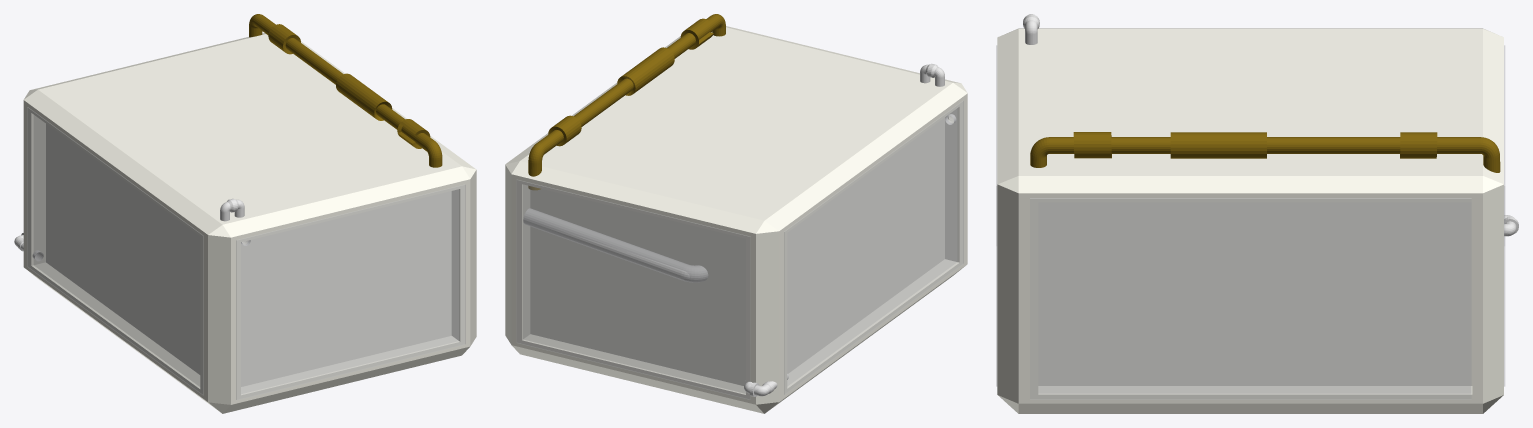
File: Steampunk_Puzzle_Box.fbx
3 views of the same model, side by side, from view 1: azimuth 30°, elevation 25°; view 2: azimuth 150°, elevation 25°; view 3: azimuth 270°, elevation 25° (orthographic). The views are drawn at different scales.
Parts seen in each view (by area): view 1: Base_Body_Box, Glass_Panel_3, Glass_Panel_2, Network_1, Network_3; view 2: Base_Body_Box, Glass_Panel_1, Glass_Panel_2, Network_1, Level1_Platform_1, Network_3; view 3: Base_Body_Box, Glass_Panel_4, Network_1, Glass_Panel_3, Glass_Panel_1.
Part boxes in pixels (x1=…): Base_Body_Box: x1=23, y1=33, x2=476, y2=413; Glass_Panel_3: x1=236, y1=185, x2=465, y2=399; Glass_Panel_2: x1=27, y1=107, x2=203, y2=394; Network_1: x1=249, y1=14, x2=442, y2=167; Network_3: x1=220, y1=198, x2=250, y2=245; Base_Body_Box: x1=505, y1=26, x2=967, y2=413; Glass_Panel_1: x1=516, y1=180, x2=750, y2=399; Glass_Panel_2: x1=784, y1=100, x2=963, y2=394; Network_1: x1=528, y1=14, x2=725, y2=190; Level1_Platform_1: x1=523, y1=208, x2=708, y2=282; Network_3: x1=920, y1=63, x2=956, y2=124; Base_Body_Box: x1=997, y1=28, x2=1503, y2=413; Glass_Panel_4: x1=1030, y1=198, x2=1471, y2=399; Network_1: x1=1030, y1=132, x2=1500, y2=172; Glass_Panel_3: x1=996, y1=45, x2=997, y2=386; Glass_Panel_1: x1=1504, y1=45, x2=1505, y2=386.
Bounding box in the file's own units: 1867 × 1412 × 2485.
